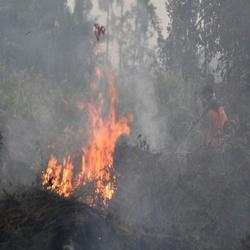fire: (90, 114, 114, 182), (43, 160, 74, 196)
